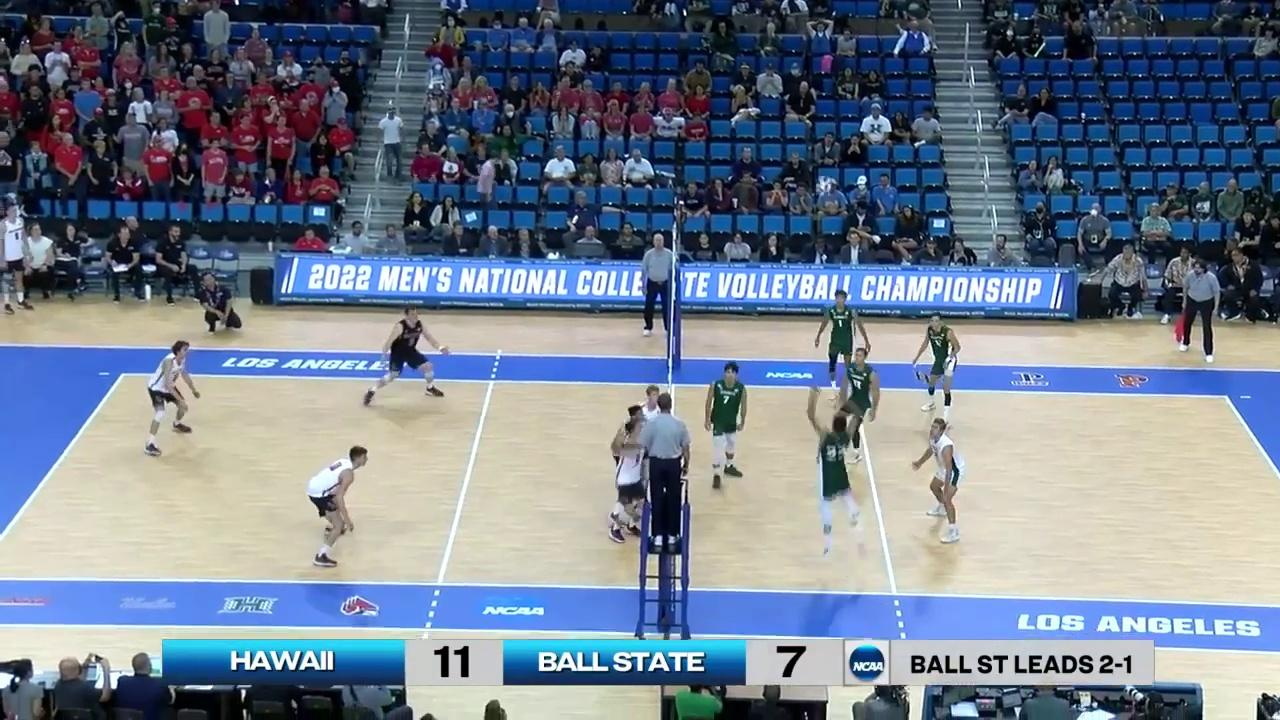player: (364, 307, 447, 404), (813, 407, 865, 559), (309, 447, 370, 565), (910, 420, 964, 547), (143, 340, 198, 453), (704, 362, 749, 497), (829, 349, 880, 462), (818, 293, 867, 399), (915, 312, 959, 420), (634, 387, 667, 519), (611, 419, 646, 539), (613, 404, 646, 521)
refree: (641, 394, 691, 549), (1175, 260, 1222, 360), (639, 234, 676, 335)
